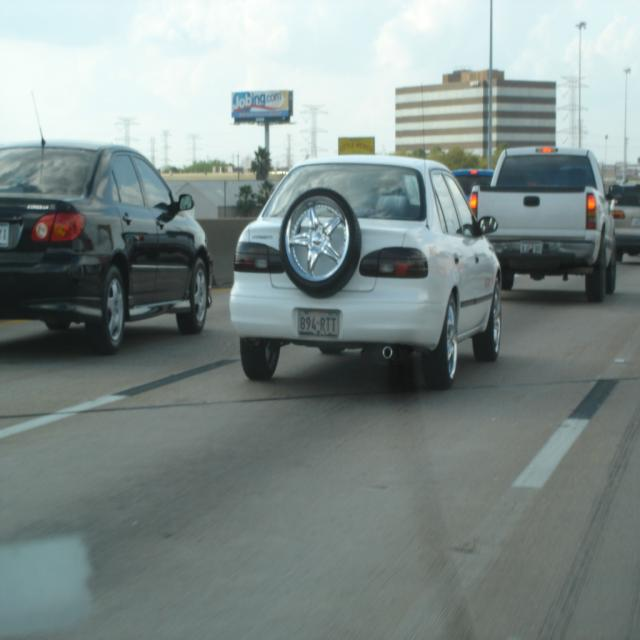car: (218, 144, 505, 395)
